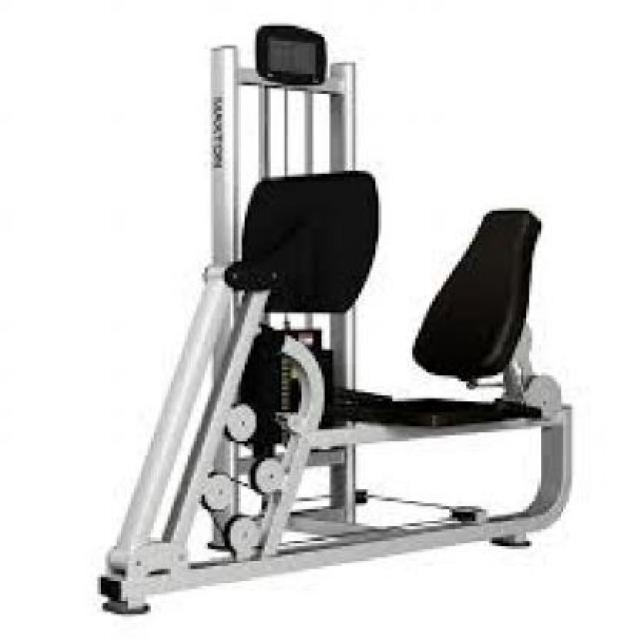leg press: (80, 16, 582, 616)
